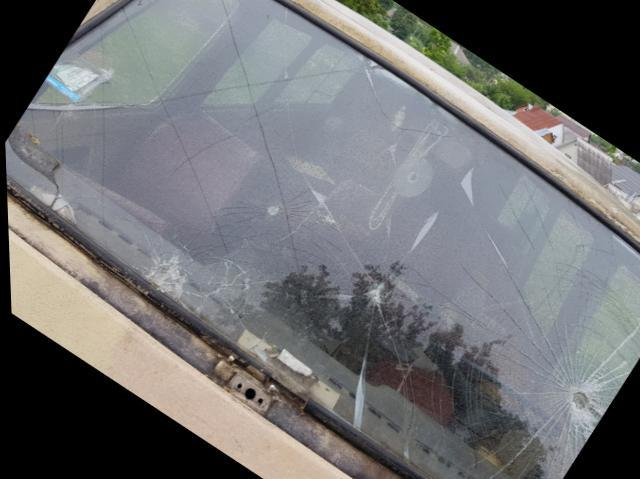glass shatter: (4, 0, 640, 479)
